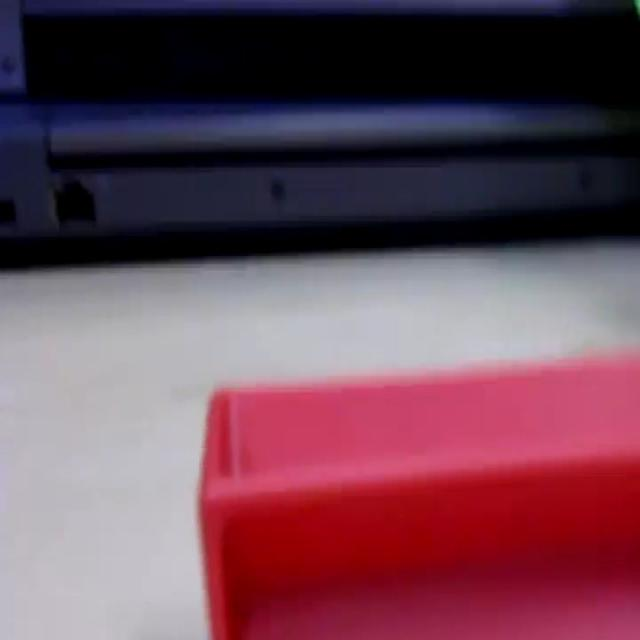red_block: (197, 347, 638, 636)
